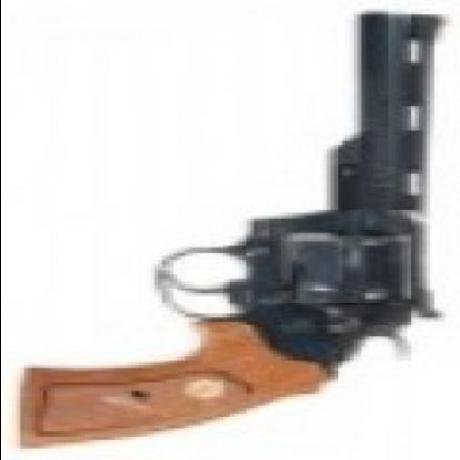weapon: (8, 3, 457, 459)
